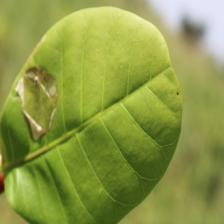leaf miner: (0, 5, 183, 224)
